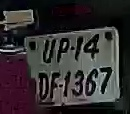1: (63, 70, 72, 100), (75, 37, 84, 63)
3: (73, 69, 85, 97)
4: (83, 32, 103, 61)
6: (84, 66, 98, 97)
7: (99, 64, 114, 95)
D: (37, 68, 50, 102)
F: (49, 70, 60, 100)
P: (56, 37, 70, 64)
U: (41, 38, 56, 65)
